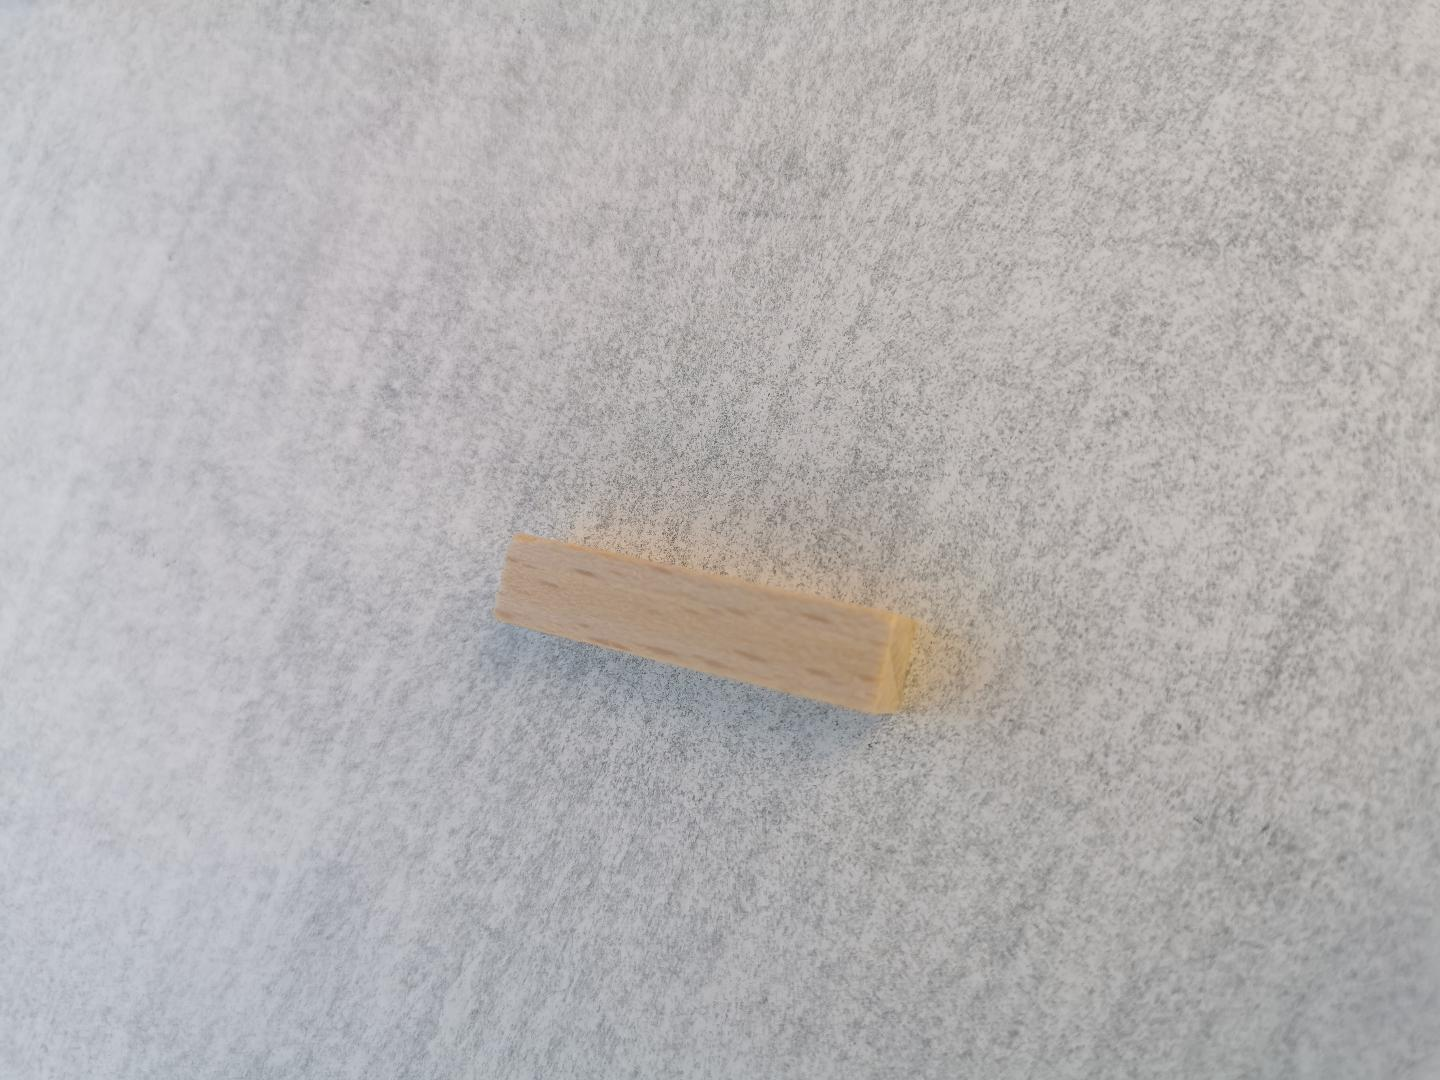jenga: (495, 534, 914, 715)
